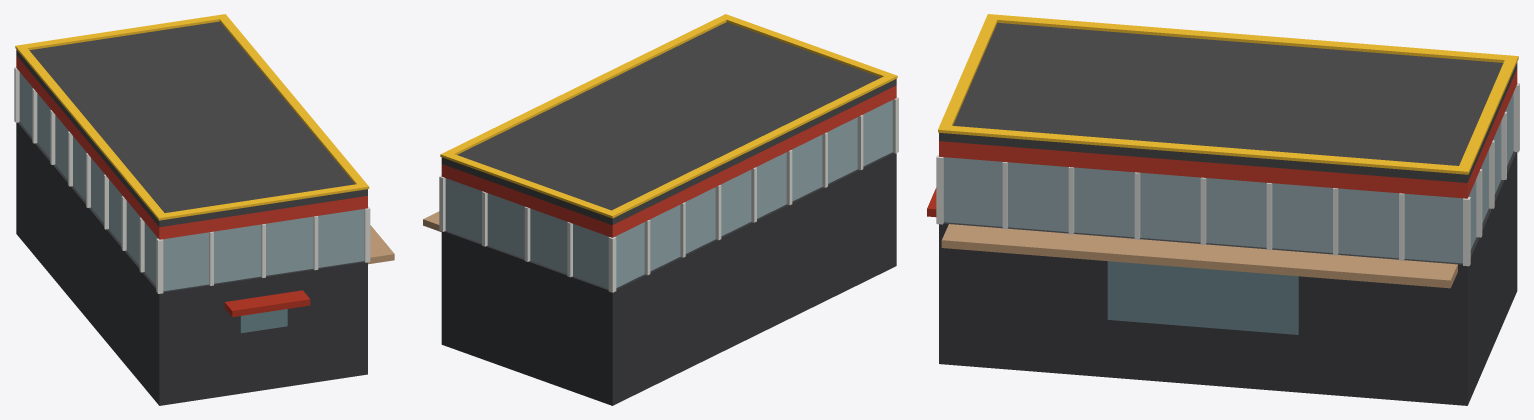
Rendered from mcdonalds-wenxin5.glb.
3 renders of one model, left to right at view 1: azimuth 30°, elevation 25°; view 2: azimuth 150°, elevation 25°; view 3: azimuth 270°, elevation 25°, orthographic. The views are drawn at different scales.
Parts seen in each view (by area): view 1: mcdonalds-wenxin5; view 2: mcdonalds-wenxin5; view 3: mcdonalds-wenxin5.
Part boxes in pixels (box(x1,y1,x2,y2)): mcdonalds-wenxin5: box(14, 14, 394, 405); mcdonalds-wenxin5: box(423, 14, 898, 405); mcdonalds-wenxin5: box(927, 14, 1519, 405).
Bounding box in the file's own units: 19.01 × 12 × 27.48.
